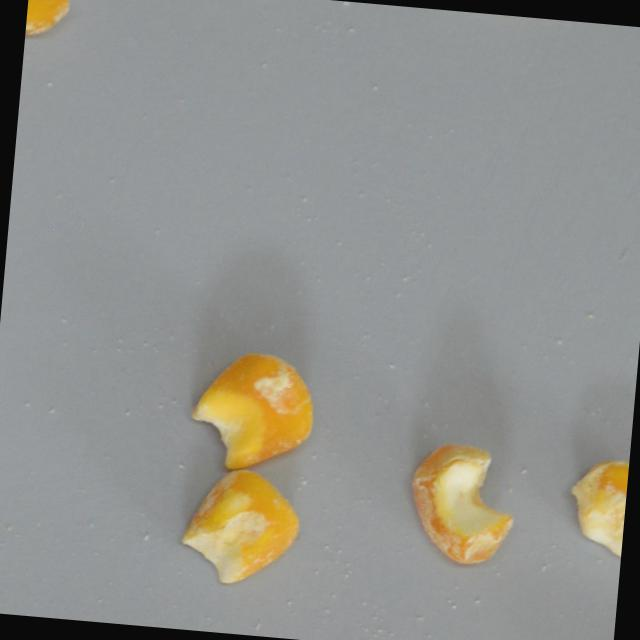pelicula: (184, 343, 320, 474), (176, 463, 304, 590), (403, 440, 520, 569), (564, 455, 629, 556), (23, 0, 71, 43)
